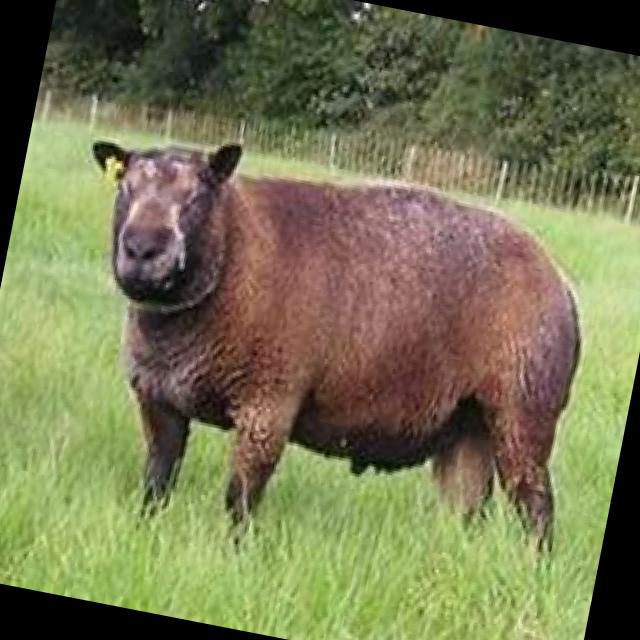sheep: (24, 114, 620, 606)
